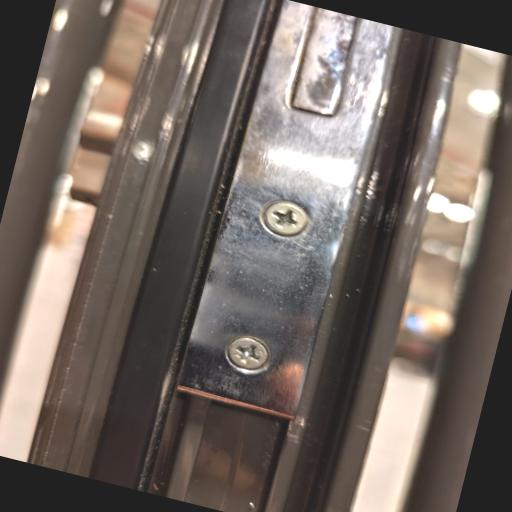Phillips: (211, 325, 282, 382), (258, 197, 308, 240)
